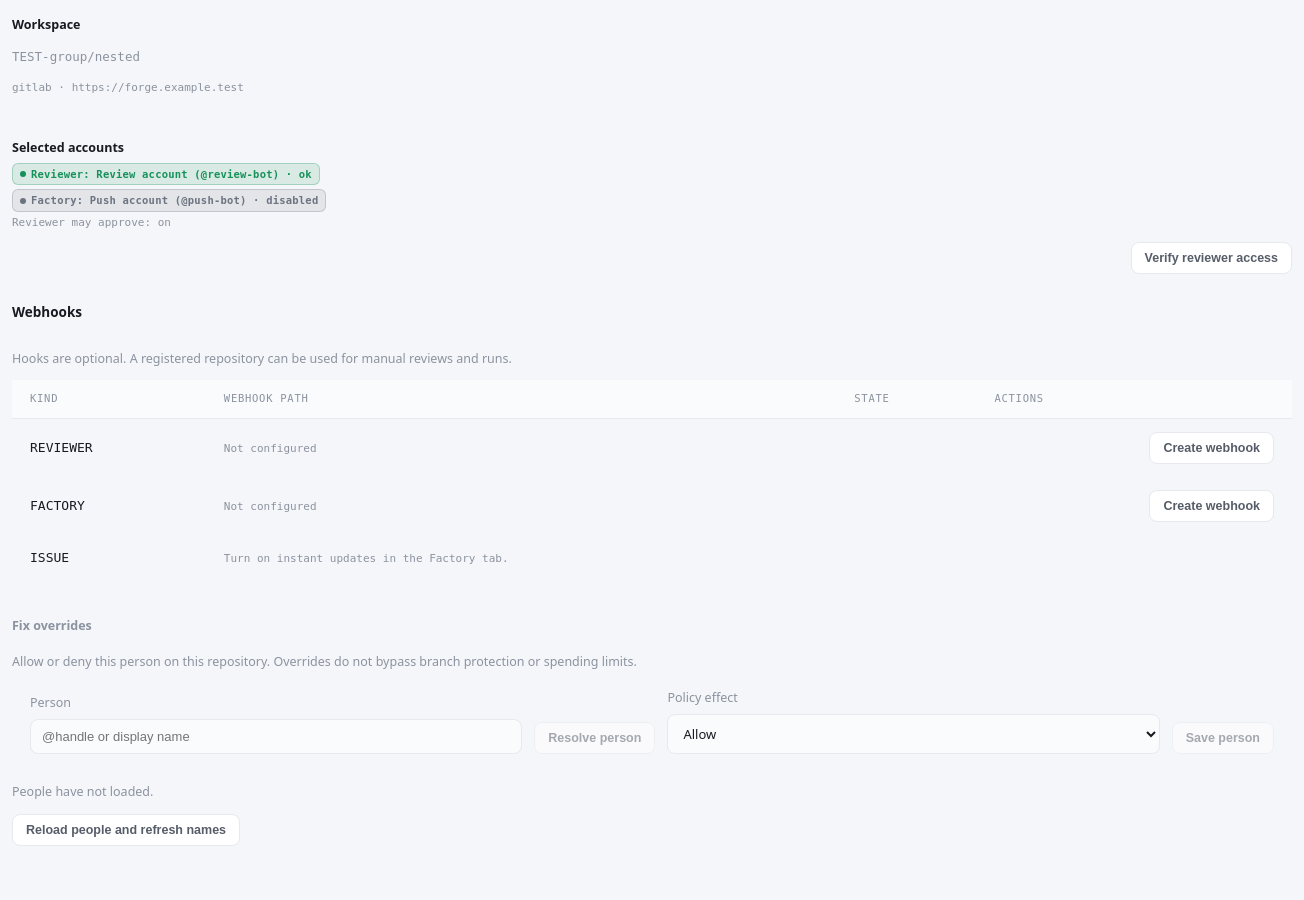
Test: RepositoryDetail › requires explicit origin repair before creating beside an unresolved legacy hook
Click the button with aria-label "Create REVIEWER webhook" at [1212, 448], box [1149,432,1274,464]
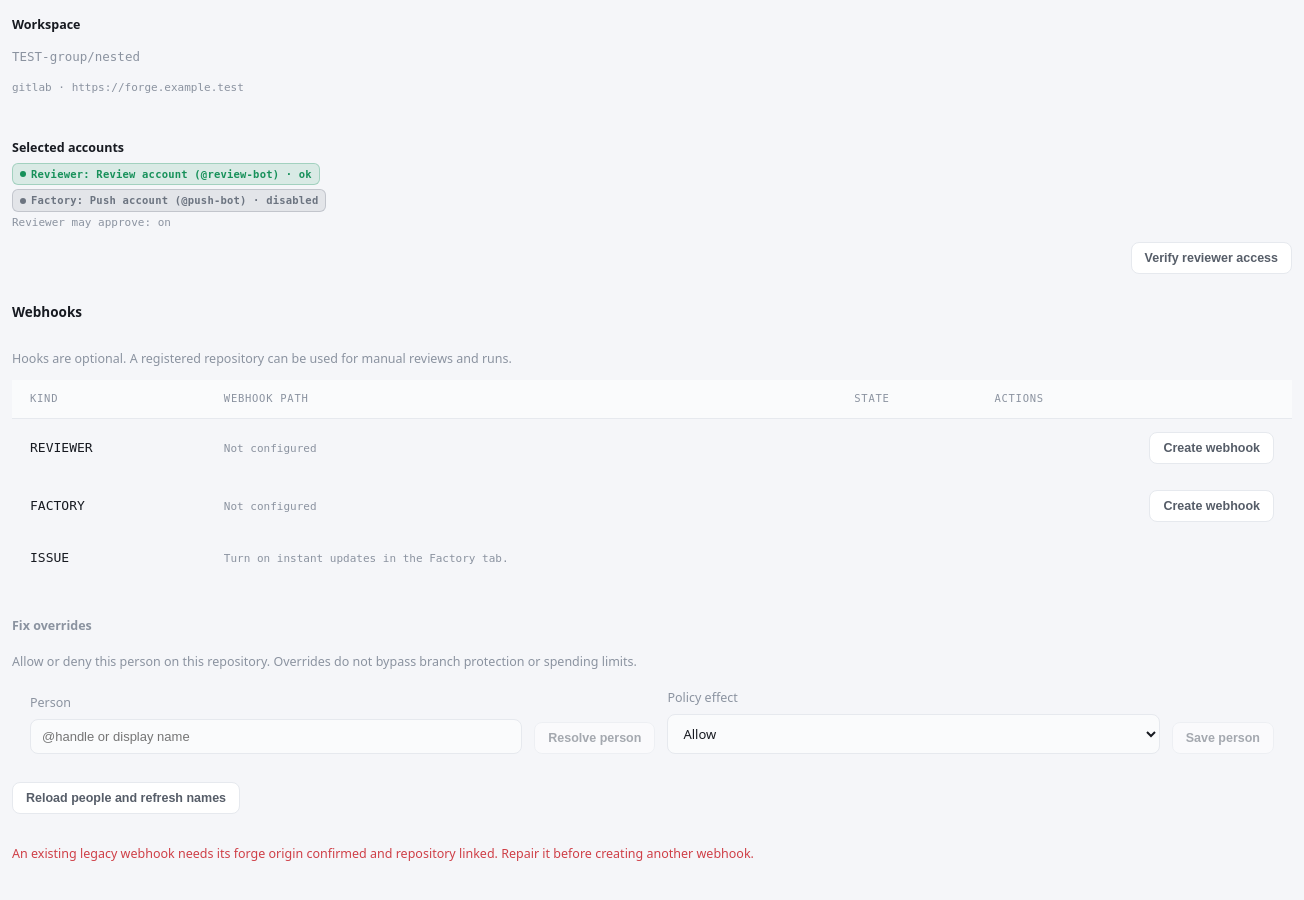
Check: the message shows "forge origin confirmed", box [12,845,754,862]
